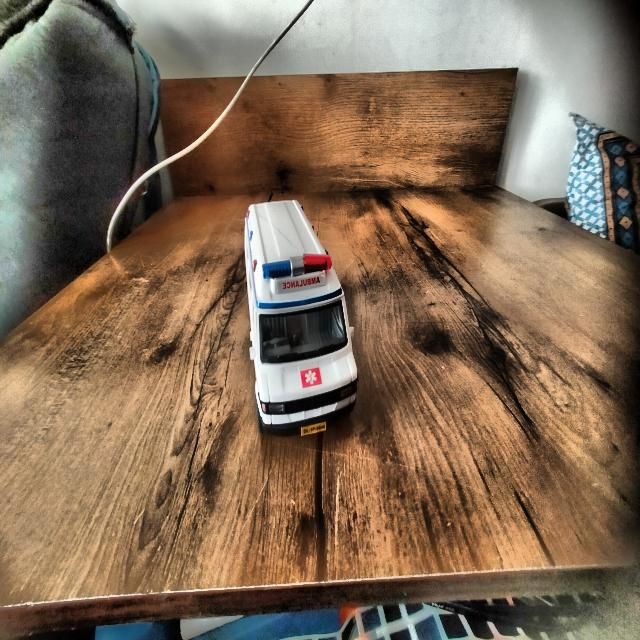Ambulance: (245, 201, 358, 434)
